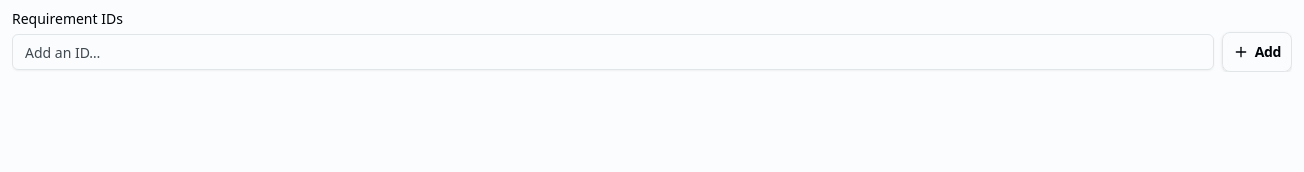
Test case: ScalarListField › adds numbers as chips and emits the array
This screenshot has width=1304, height=172.
In the field labelled "Requirement IDs": {"x": 613, "y": 52} [12,34,1214,70], type "4"
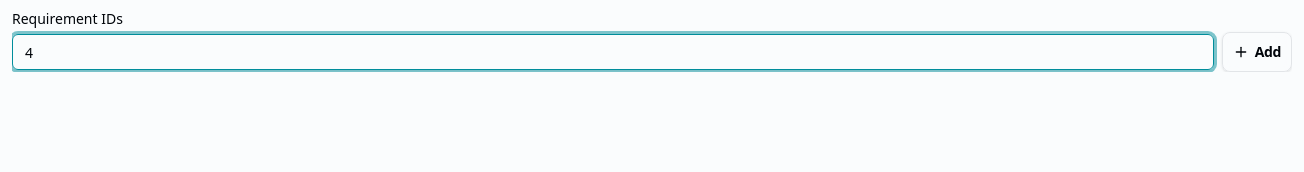
Click the button "Add": {"x": 1257, "y": 52} [1222,32,1292,72]
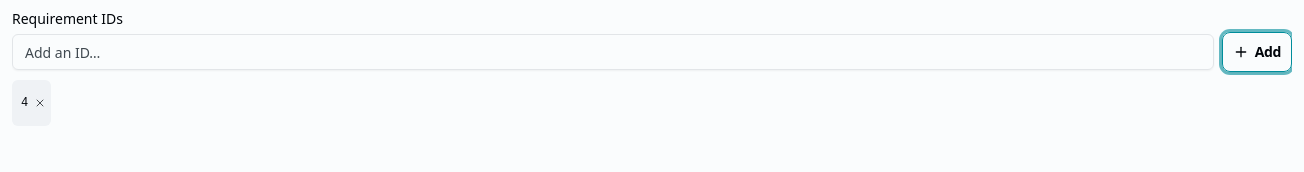
In the field labelled "Requirement IDs": {"x": 613, "y": 52} [12,34,1214,70], type "9"
Then press Enter
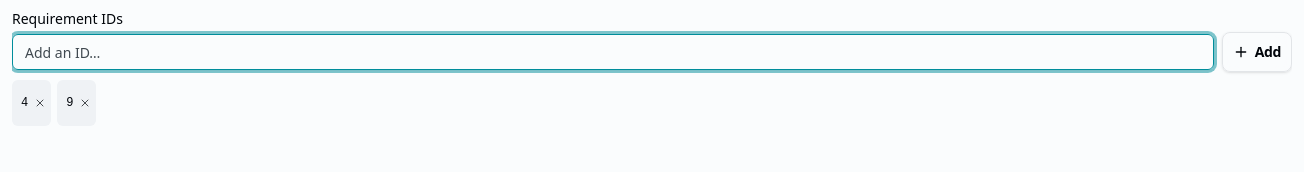
Result: the text "4" is shown at [12,80,51,126]
Result: the text "9" is shown at [57,80,96,126]
